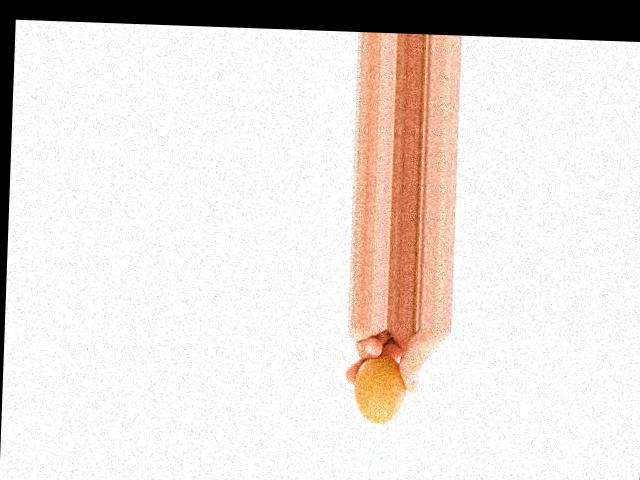egg: (352, 355, 406, 424)
